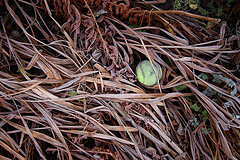tennis ball: (133, 58, 163, 86)
